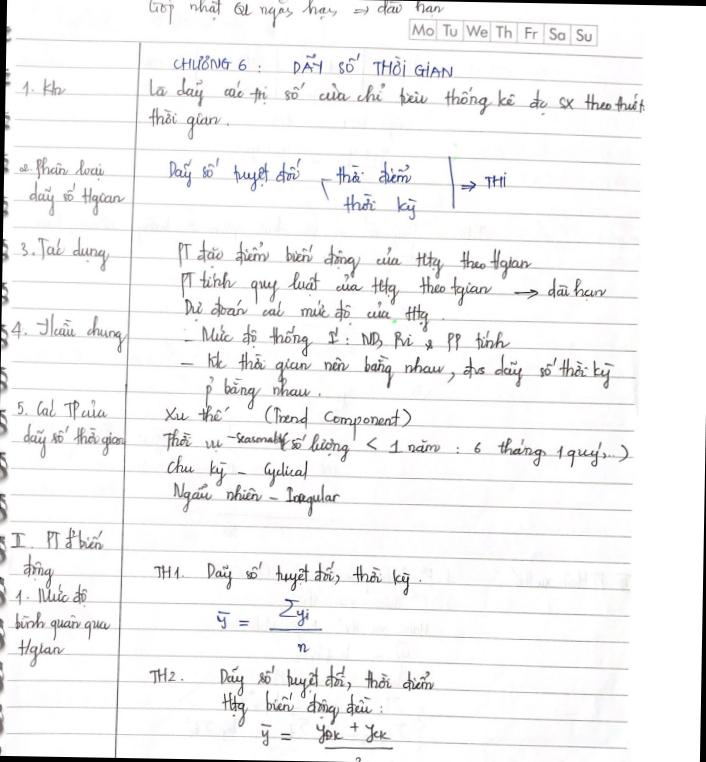text: (146, 72, 648, 120), (176, 348, 616, 396), (159, 426, 632, 470), (177, 267, 610, 310), (173, 238, 532, 283), (180, 320, 513, 362), (160, 401, 412, 444), (143, 0, 446, 34), (180, 296, 432, 334), (215, 662, 436, 704), (168, 48, 456, 79), (202, 558, 413, 597), (218, 689, 385, 733), (169, 479, 340, 520), (211, 595, 327, 654), (256, 719, 395, 762), (165, 154, 304, 195), (7, 308, 128, 354), (163, 453, 311, 489), (201, 373, 322, 413), (17, 419, 126, 462), (26, 178, 127, 220), (16, 231, 112, 274), (410, 24, 592, 46), (145, 102, 232, 142), (11, 609, 113, 643), (12, 394, 110, 427), (16, 152, 106, 184), (6, 526, 108, 554), (333, 158, 415, 190), (339, 192, 417, 223), (12, 582, 90, 610), (14, 638, 66, 670), (21, 554, 58, 592), (18, 76, 68, 101), (146, 665, 178, 688), (483, 172, 511, 194), (150, 565, 183, 583)
